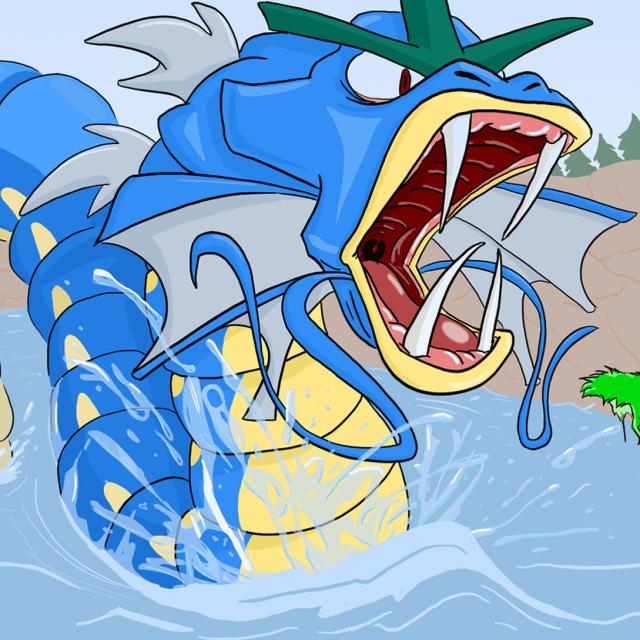Gyarados: (86, 8, 584, 570)
